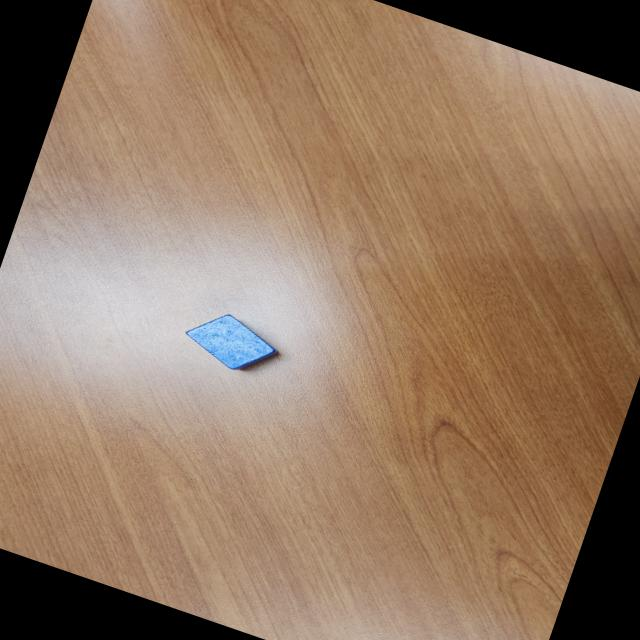blue: (177, 300, 285, 382)
